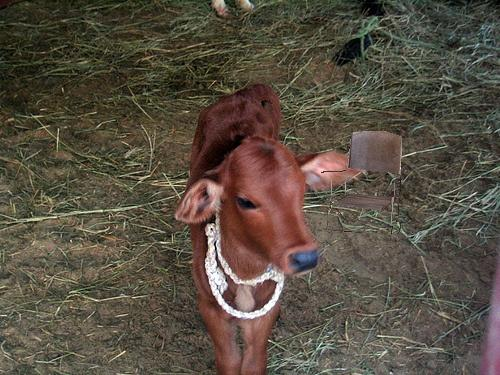tampered: (322, 132, 402, 238)
